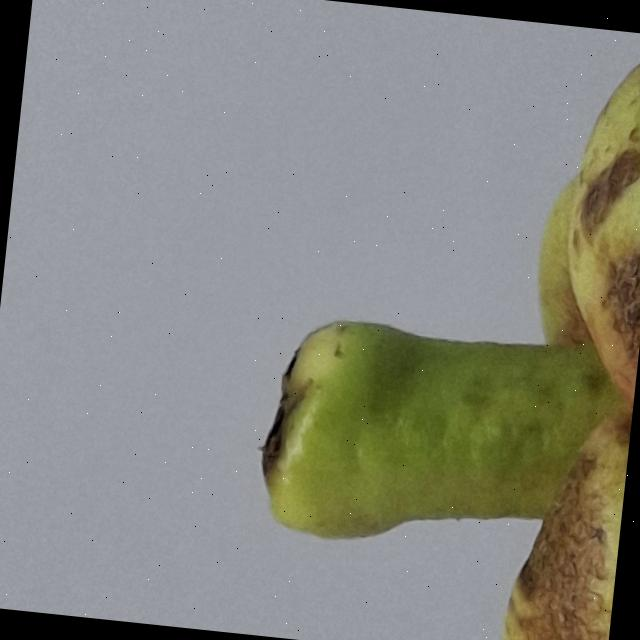mangosteen: (112, 0, 640, 640)
